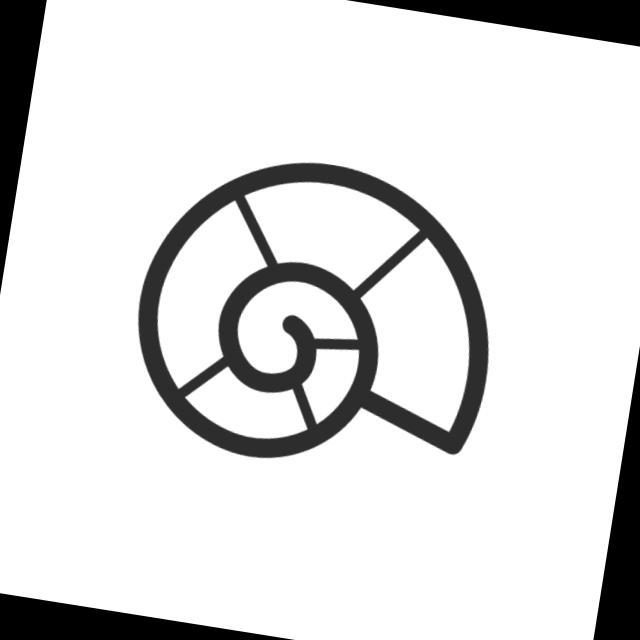fossil: (112, 131, 524, 501)
